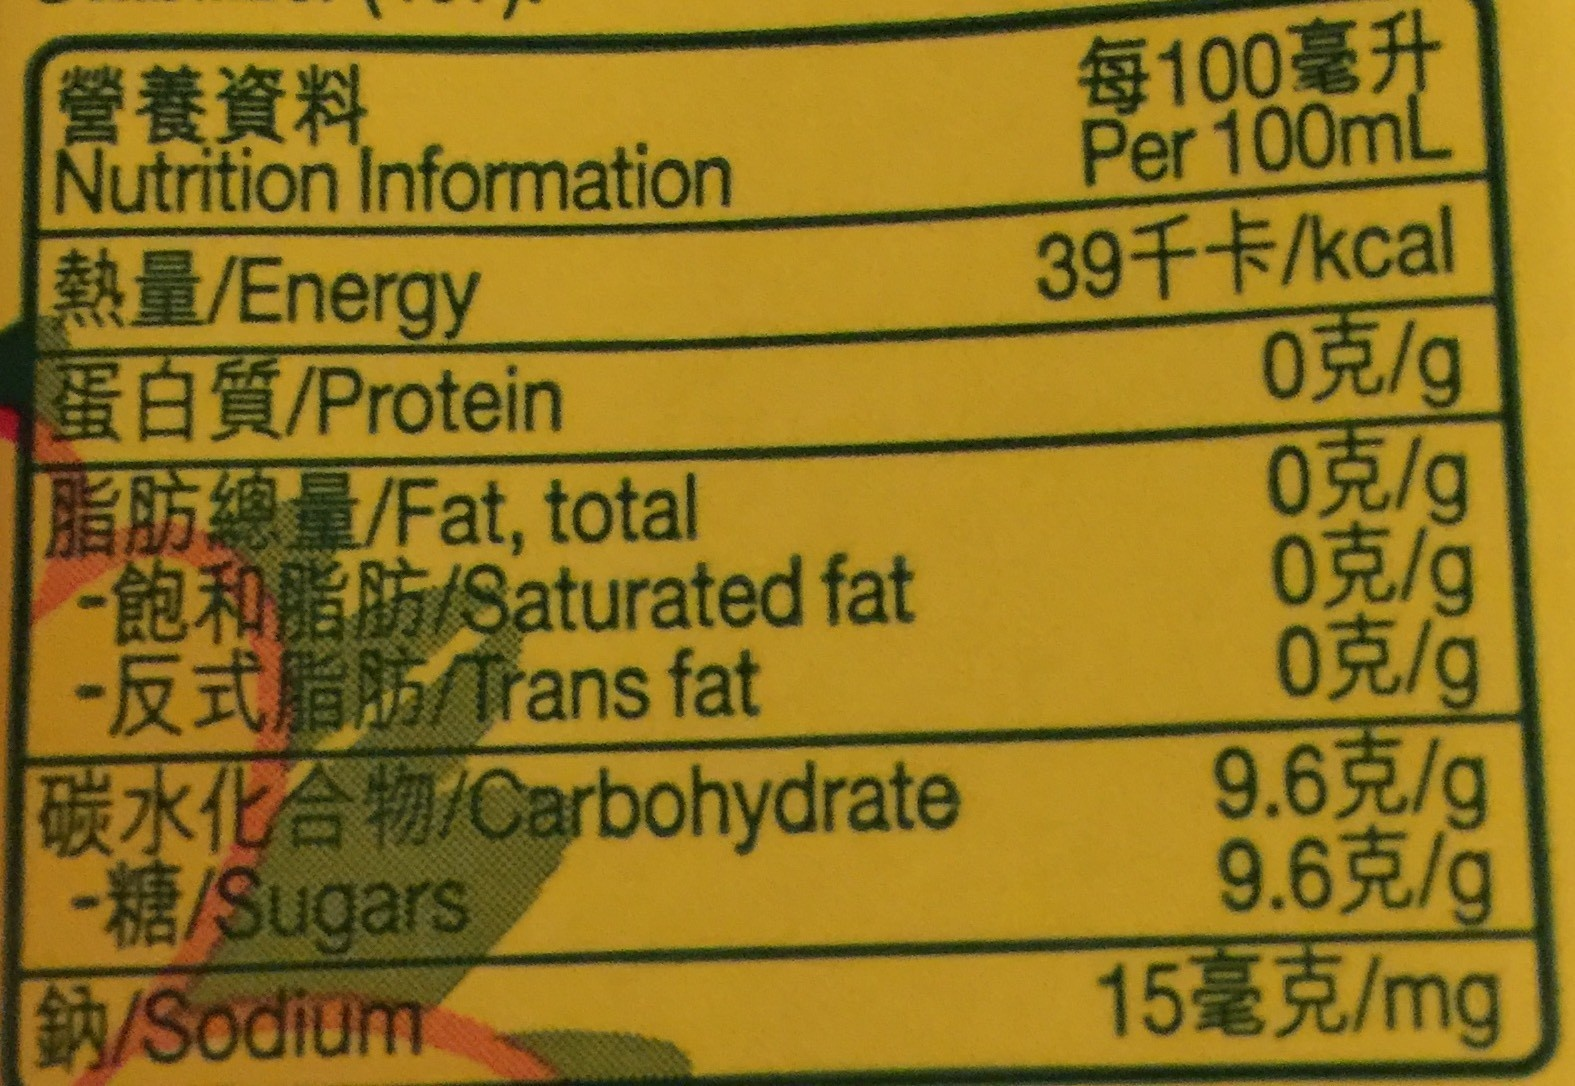column: (42, 57, 966, 1060), (1036, 28, 1502, 1051)
table: (24, 8, 1557, 1085)
